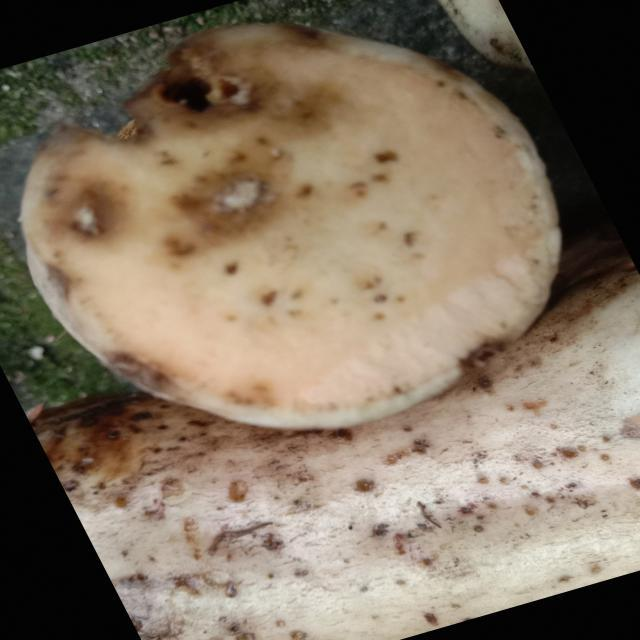Sick Sweet Potato_Tuber Rot: (22, 24, 560, 429)
